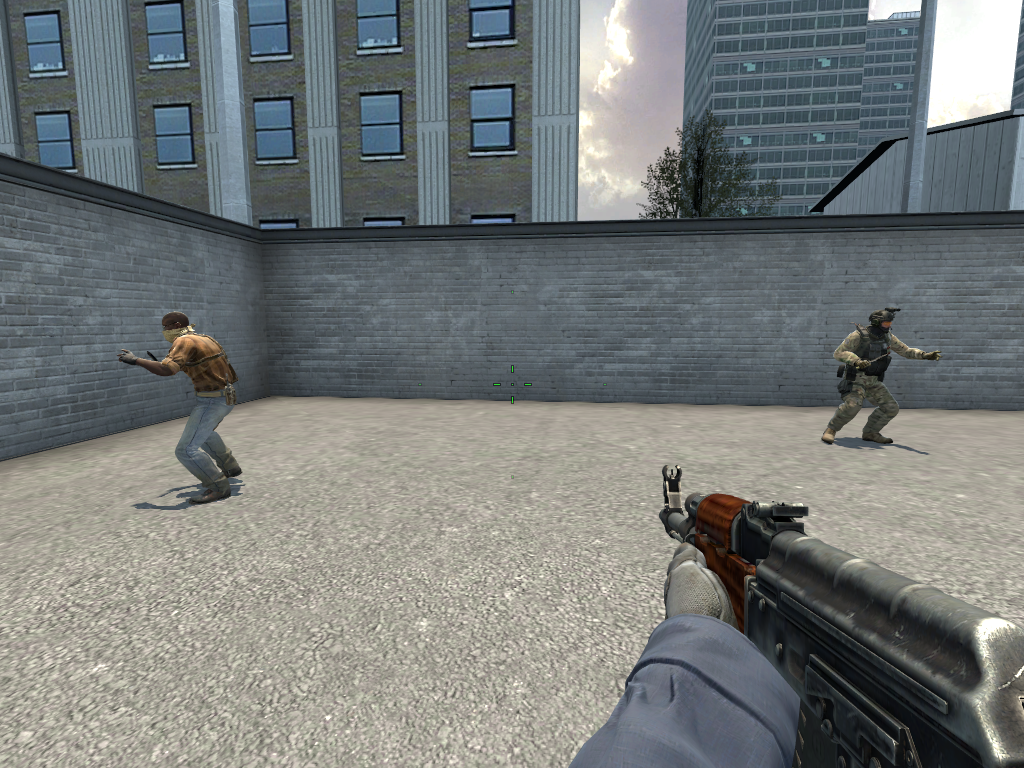ct head: (867, 301, 902, 333)
tr head: (156, 308, 193, 346)
